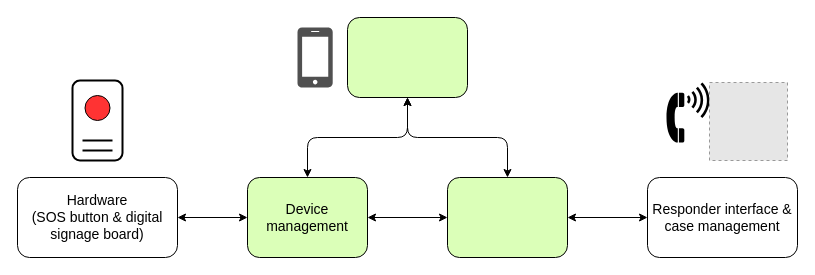
Image size: 815x275. Some labels were removed from this diagram. Grey dashed boxes stand in for pictures. Each missing label, with the centre of its shape:
"Client data management" goes at (x=507, y=217).
"On-boarding interface" goes at (x=407, y=57).
